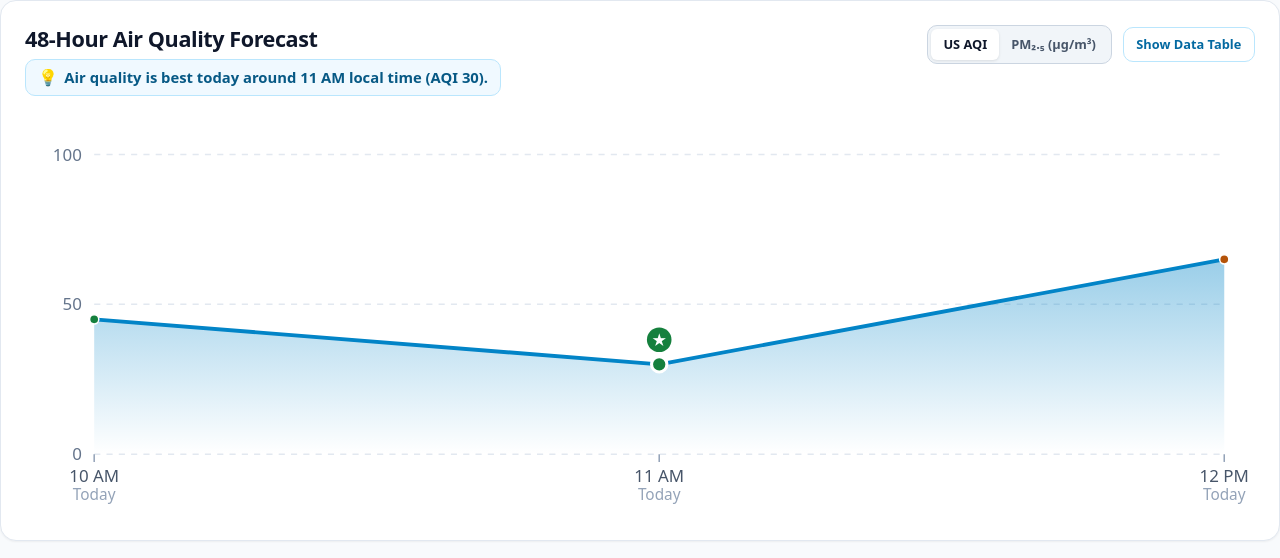
Test case: ForecastChart Component › toggles metric between US AQI and PM2.5
Step 1. Click the button "PM₂.₅ (µg/m³)" → [1054, 44], box [999,29,1108,60]
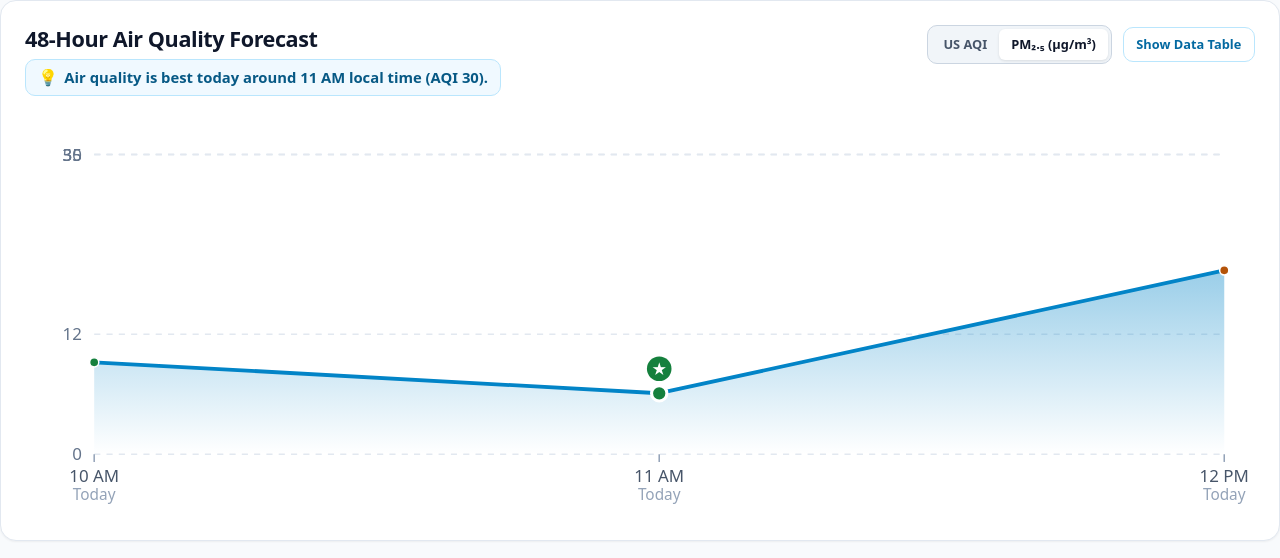
Now the button "US AQI" is not pressed, box [931,29,999,60]
Now the button "PM₂.₅ (µg/m³)" is pressed, box [999,29,1108,60]
